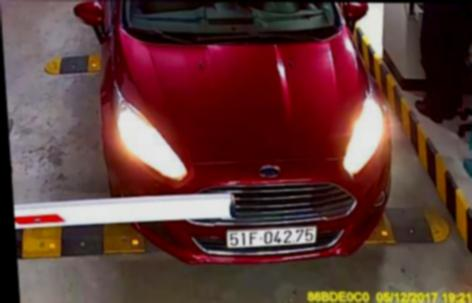License_Plate: (224, 226, 319, 250)
